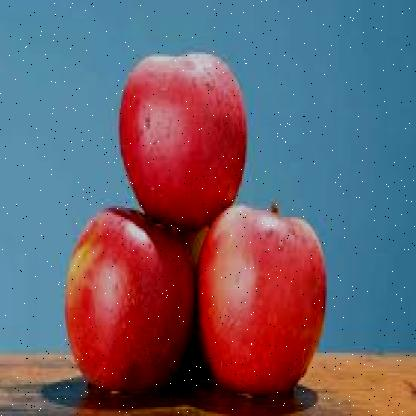apple: (198, 197, 326, 389), (120, 48, 248, 222), (66, 212, 194, 380)
